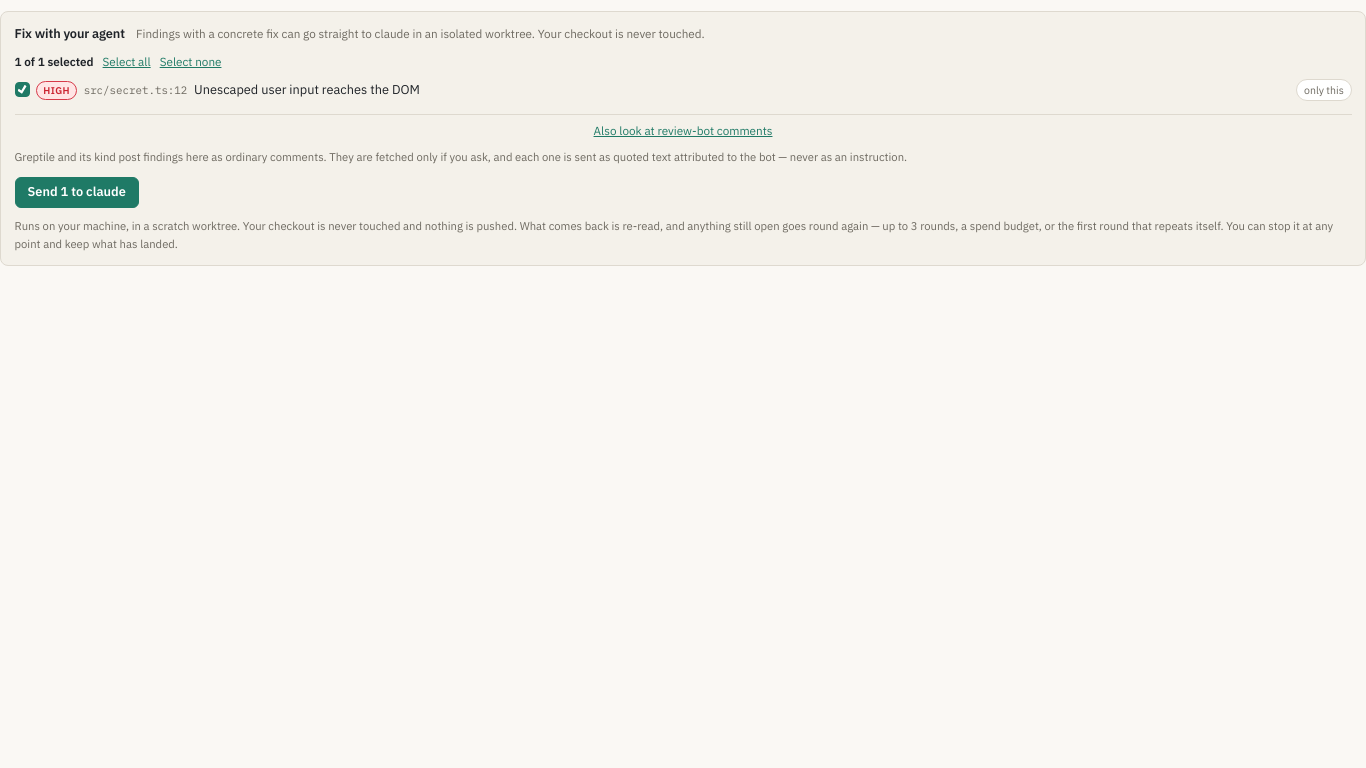
Test case: the bounded loop › stops on the first round that leaves what the previous one left
The image size is (1366, 768).
Click the button with test id "agent-fix-send": (77, 193) [14,177,139,208]
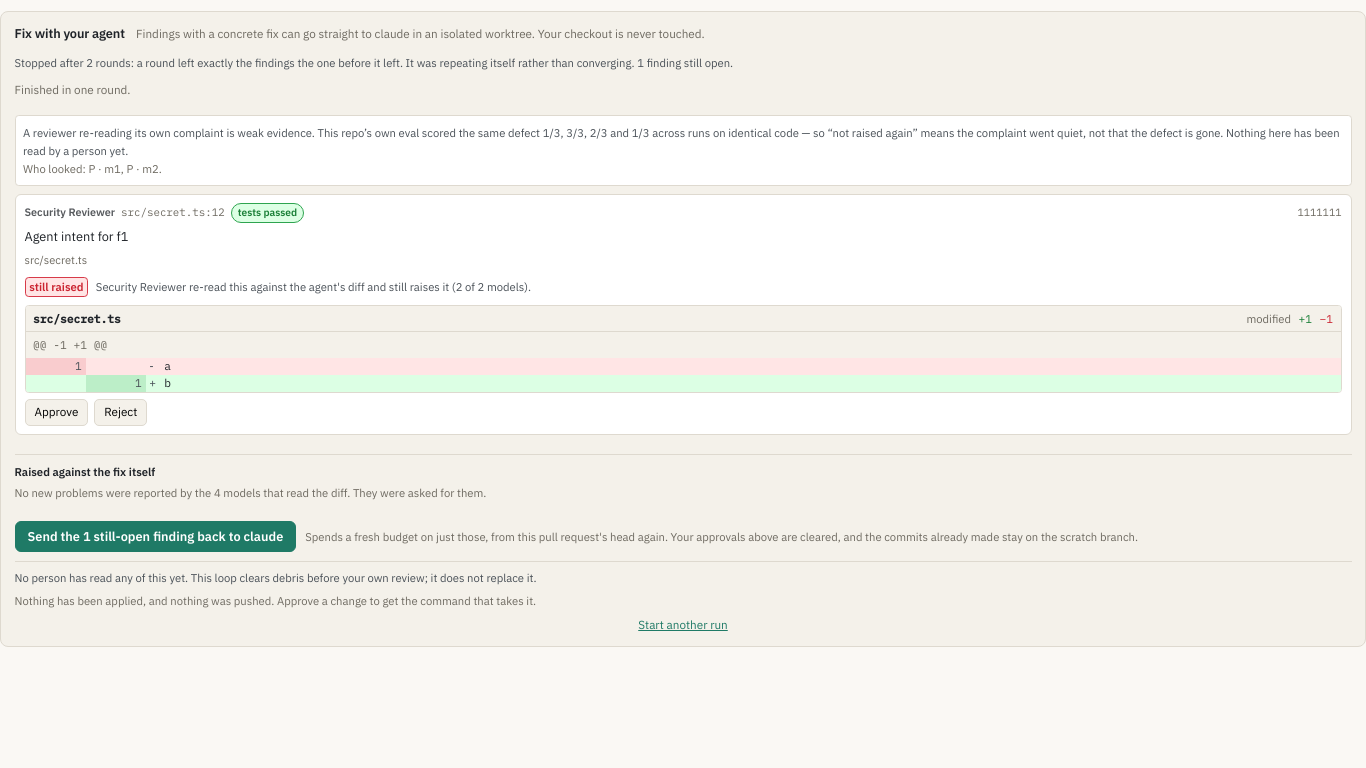
Check: the text with test id "agent-fix-loop-stop" shows "repeating itself rather than converging", box [14,55,733,70]
